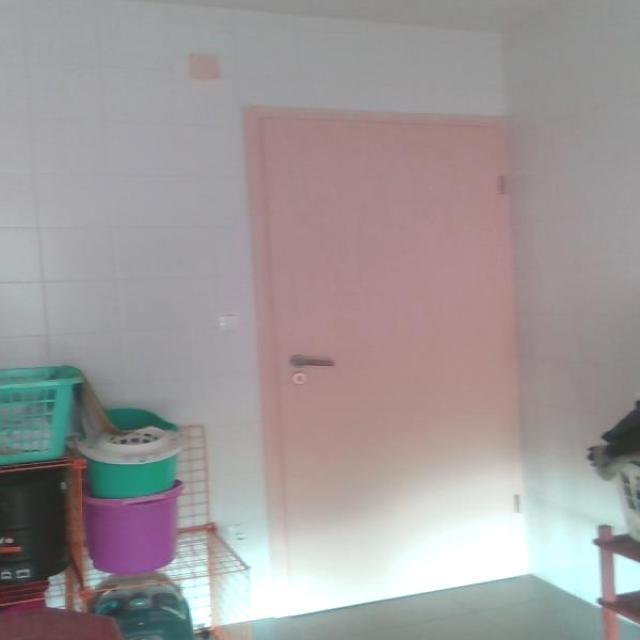door: (243, 104, 526, 612)
